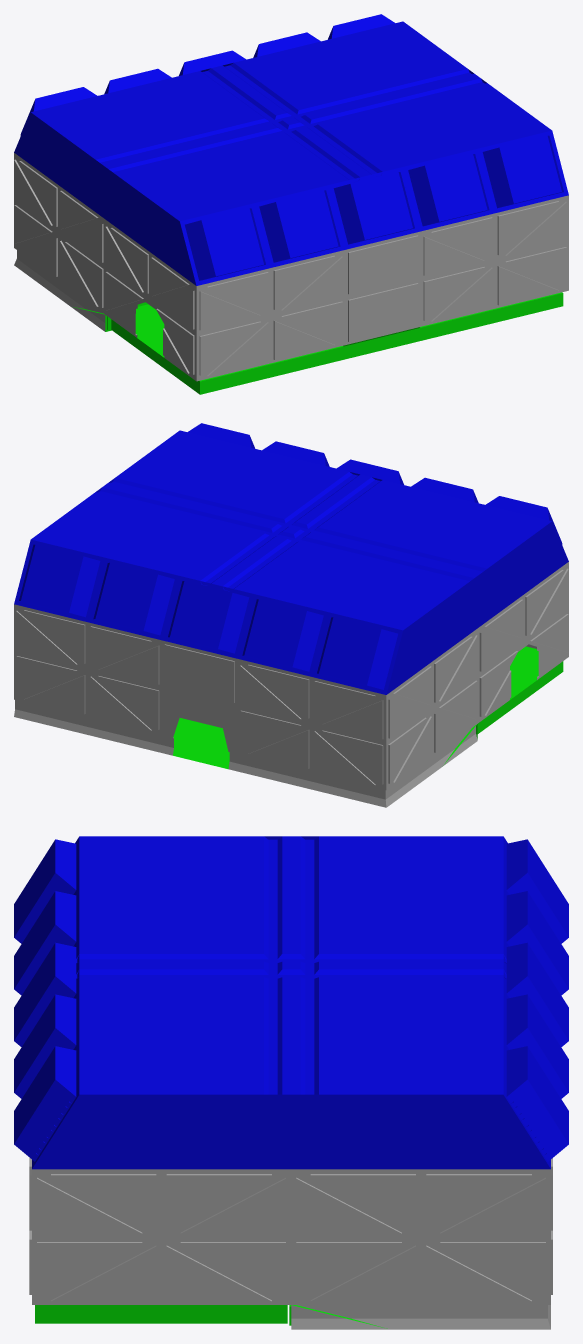
Rendered from CoolingRoom.fbx.
The picture shows the model from 3 angles, top to bottom: view 1: azimuth 30°, elevation 25°; view 2: azimuth 150°, elevation 25°; view 3: azimuth 270°, elevation 25°; orthographic projection. The views are drawn at different scales.
Visible parts, largest first — view 1: Roof, Walls, Floor; view 2: Roof, Walls, Floor; view 3: Roof, Walls, Floor.
Boxes of the visible parts, x1,y1,x2,y2 form: Roof: (14,14,568,285); Walls: (14,153,568,381); Floor: (73,292,563,394); Roof: (14,423,568,694); Walls: (14,562,568,807); Floor: (173,646,563,769); Roof: (14,836,568,1169); Walls: (29,1157,552,1329); Floor: (35,1305,387,1328).
Bounding box in the file's own units: 172 × 74.29 × 155.
